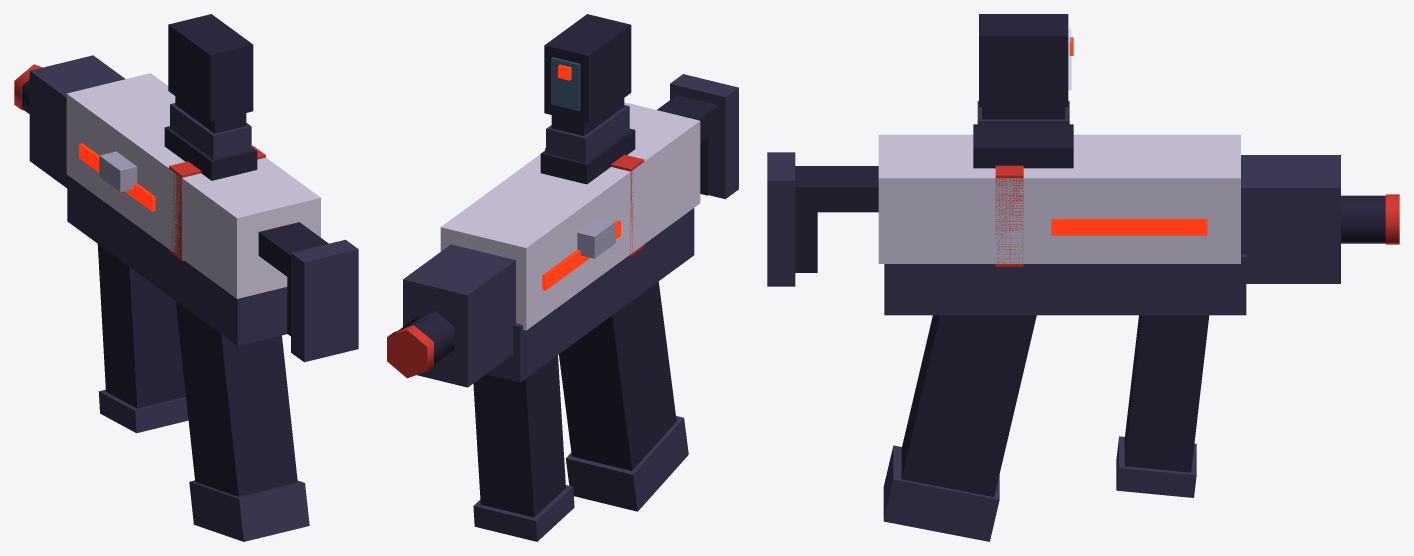
Rendered from smg.lod1.glb.
3 views of the same model, side by side, from view 1: azimuth 30°, elevation 25°; view 2: azimuth 150°, elevation 25°; view 3: azimuth 270°, elevation 25° (orthographic). The views are drawn at different scales.
Visible parts, largest first — view 1: item.smg.body, part.mag, part.bolt; view 2: item.smg.body, part.mag, part.bolt; view 3: item.smg.body, part.mag.
Part boxes in pixels (x1,y1,x2,y2): item.smg.body: [14, 14, 358, 496]; part.mag: [189, 480, 309, 541]; part.bolt: [99, 151, 137, 192]; item.smg.body: [387, 14, 738, 541]; part.mag: [566, 416, 688, 511]; part.bolt: [577, 217, 615, 258]; item.smg.body: [767, 14, 1399, 497]; part.mag: [883, 445, 999, 541].
Bounding box in the file's own units: 0.1437 × 0.6187 × 0.7094.
